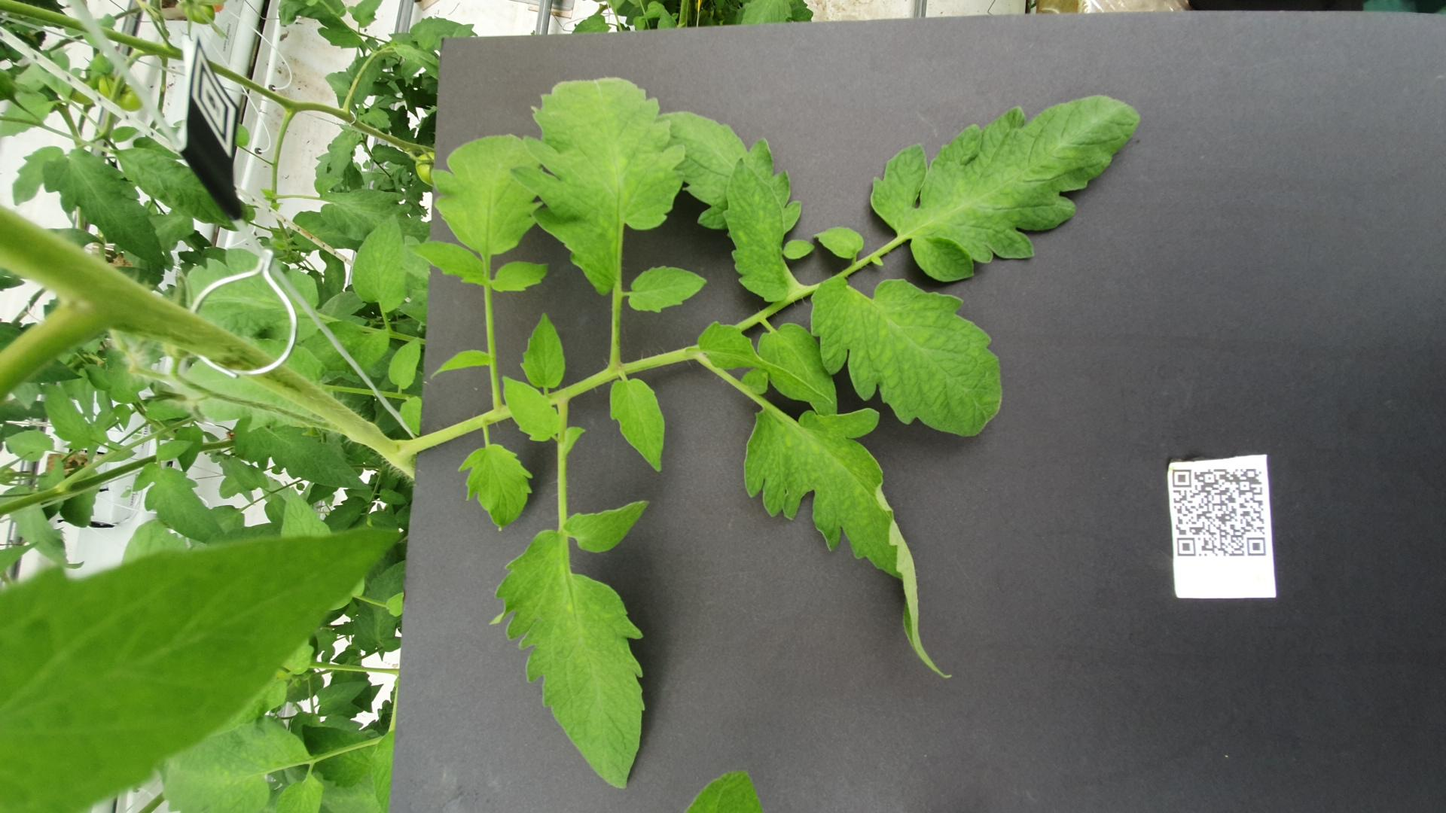Healthy: (0, 0, 513, 227), (925, 228, 1208, 308), (0, 90, 159, 182), (971, 24, 1181, 92), (1035, 65, 1184, 134), (476, 73, 624, 124), (573, 150, 693, 209), (501, 256, 659, 300), (607, 341, 778, 375), (661, 281, 780, 315), (886, 353, 975, 398), (755, 292, 891, 319), (752, 218, 850, 238), (983, 456, 1045, 486), (623, 2, 684, 30)
Iron Deficiency: (233, 417, 720, 536), (942, 489, 1278, 642), (41, 275, 558, 367), (918, 286, 1312, 386), (665, 456, 953, 565), (1030, 373, 1253, 450), (907, 406, 1163, 443), (707, 426, 876, 473), (891, 198, 1071, 230)
